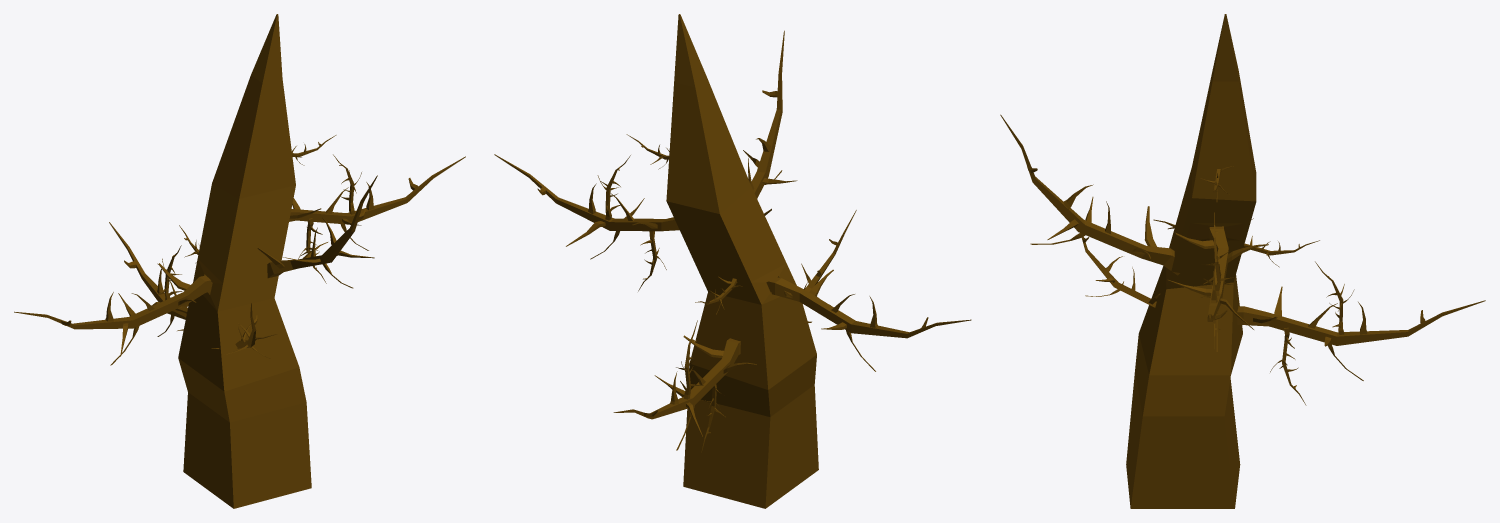
The model's file is deadbush1.fbx.
The picture shows the model from 3 angles, left to right: view 1: azimuth 30°, elevation 25°; view 2: azimuth 150°, elevation 25°; view 3: azimuth 270°, elevation 25°; orthographic projection. The views are drawn at different scales.
Parts seen in each view (by area): view 1: Cube.007; view 2: Cube.007; view 3: Cube.007.
Boxes of the visible parts, <box> form: Cube.007: <box>14,14,465,508</box>; Cube.007: <box>494,14,971,508</box>; Cube.007: <box>1000,14,1485,508</box>.
Size of the model in its own units: 56.87 by 53.17 by 46.89.
